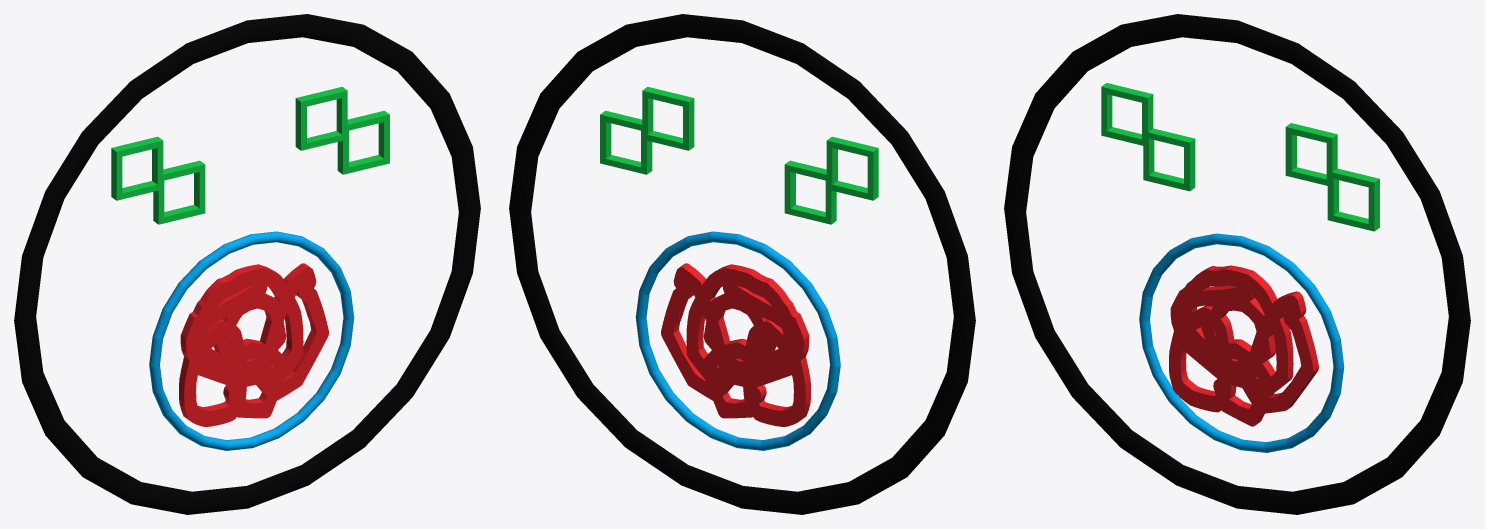
The model's file is tinker (1).glb.
The picture shows the model from 3 angles, left to right: view 1: azimuth 30°, elevation 25°; view 2: azimuth 150°, elevation 25°; view 3: azimuth 330°, elevation 25°; orthographic projection.
Visible parts, largest first — view 1: node_id9, node_id15, node_id12, node_id6; view 2: node_id9, node_id15, node_id12, node_id6; view 3: node_id9, node_id15, node_id12, node_id6.
Boxes of the visible parts, bbox=[...] form: node_id9: bbox=[14, 14, 480, 514]; node_id15: bbox=[179, 263, 328, 426]; node_id12: bbox=[111, 86, 389, 224]; node_id6: bbox=[149, 231, 354, 450]; node_id9: bbox=[509, 14, 975, 514]; node_id15: bbox=[661, 263, 810, 426]; node_id12: bbox=[600, 86, 878, 224]; node_id6: bbox=[635, 231, 840, 450]; node_id9: bbox=[1004, 14, 1470, 514]; node_id15: bbox=[1169, 265, 1318, 426]; node_id12: bbox=[1101, 83, 1379, 231]; node_id6: bbox=[1139, 233, 1344, 452].
Bounding box in the file's own units: 0.512 × 0.512 × 0.0103.
Materials: 4 (4 with a texture image).
